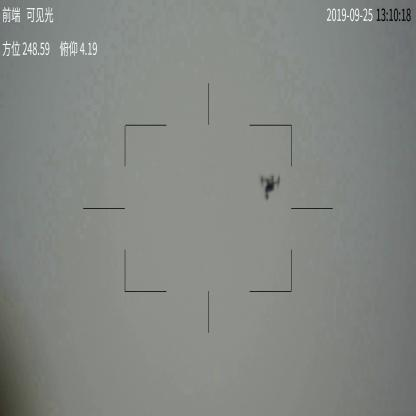uav: (259, 174, 282, 201)
